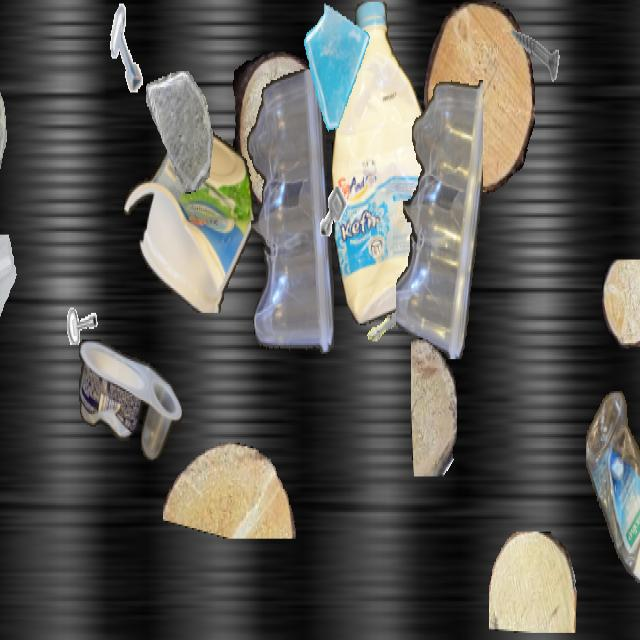glass: (300, 2, 374, 133), (146, 71, 214, 192), (0, 234, 22, 380), (0, 73, 8, 172)
metal: (350, 271, 408, 374), (502, 2, 560, 105), (102, 2, 154, 94), (57, 265, 101, 343), (312, 174, 354, 249)
plastic: (332, 2, 434, 325), (244, 69, 334, 361), (124, 124, 254, 313), (396, 73, 482, 357), (79, 340, 181, 460), (586, 391, 640, 590)
wood: (424, 2, 534, 194), (230, 52, 326, 212), (163, 442, 299, 538), (489, 532, 577, 631), (411, 338, 457, 476), (602, 260, 640, 352)
